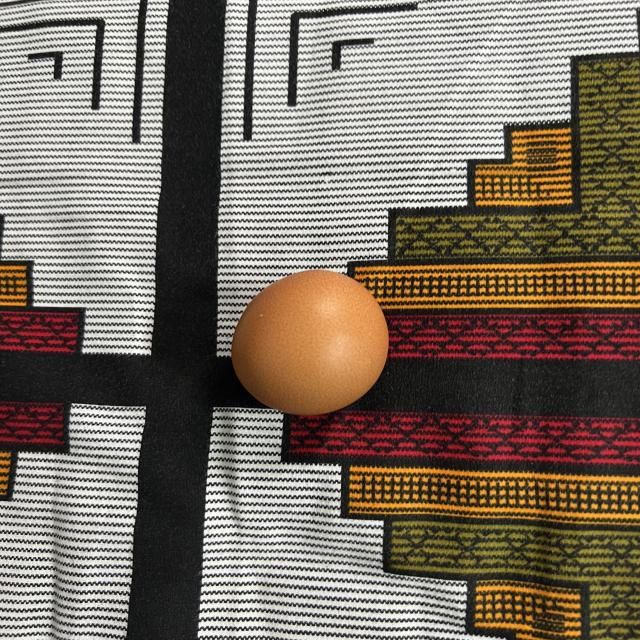Egg: (232, 268, 394, 419)
